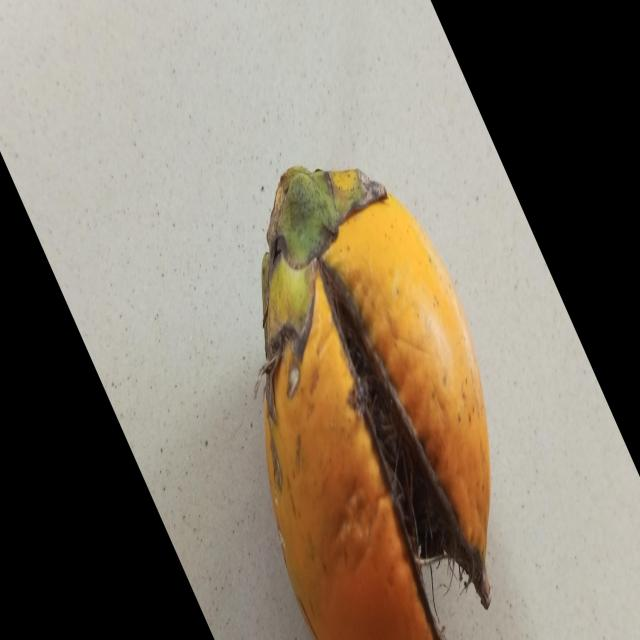damaged: (264, 168, 492, 640)
